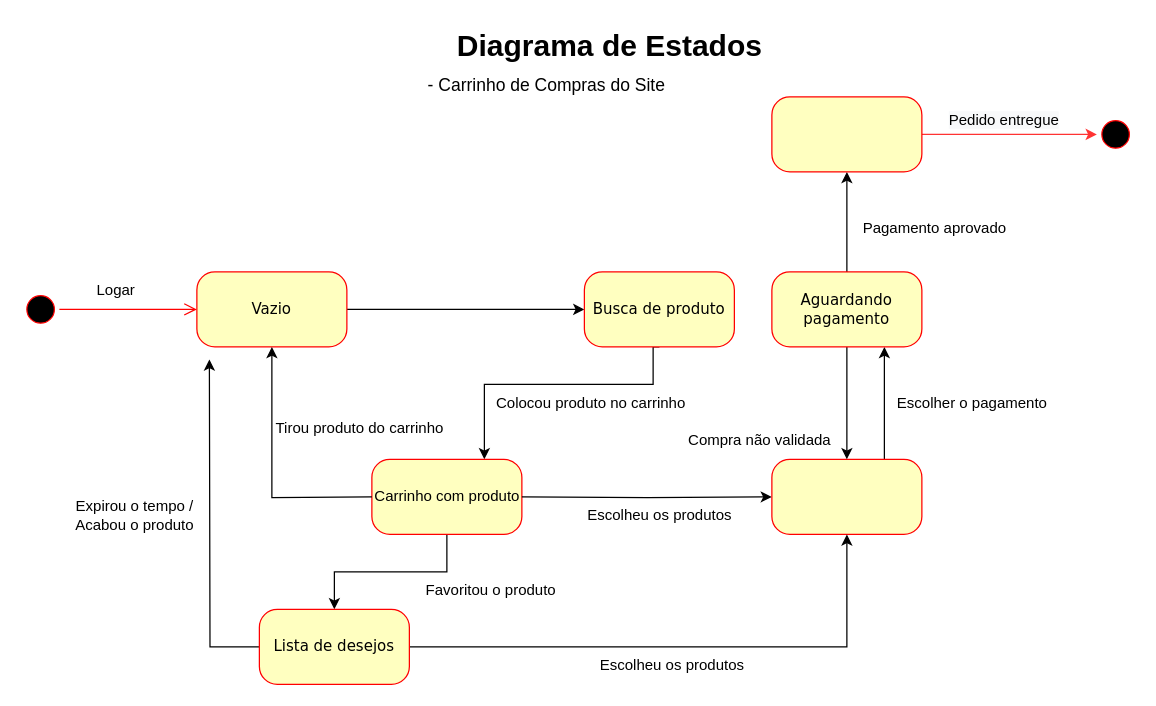
Image size: 1156x706. Some labels were removed from this diagram. The box of each missing label's shape, as (x1, y1, x2, y2) in pixels:
Acompanhamento da entrega: (771, 96, 922, 172)
Finalizar carrinho: (771, 458, 922, 534)
